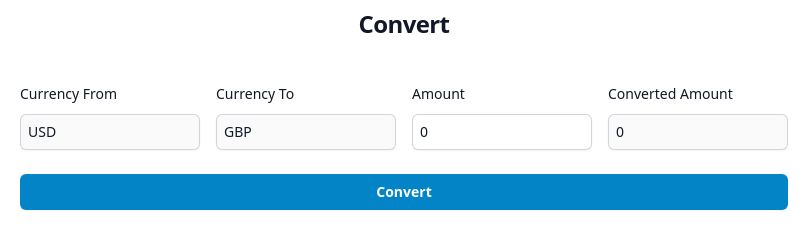
<CurrencyConvert /> › Testing conversion section
Expected: the field labelled "Currency From" holds "USD", 20,114 -> 200,150
Expected: the field labelled "Currency To" holds "GBP", 216,114 -> 396,150
# Type the 200 to the Amount Input
Type "200" into the number field labelled "Amount" at (502, 132), box 412,114 -> 592,150
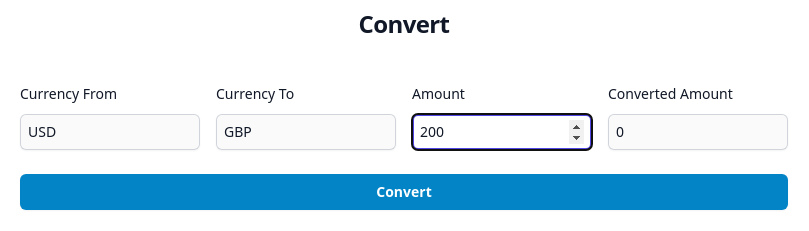
Click the button at (404, 192), box 20,174 -> 788,210
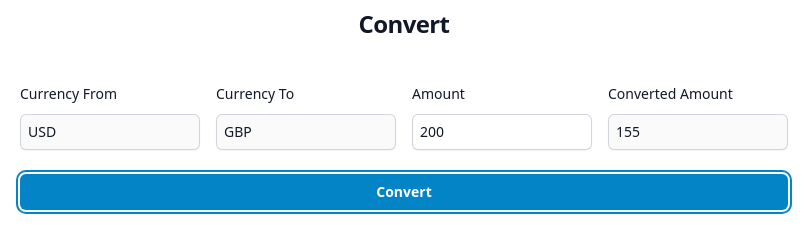
Expected: the number field labelled "Converted Amount" holds "155", 608,114 -> 788,150
